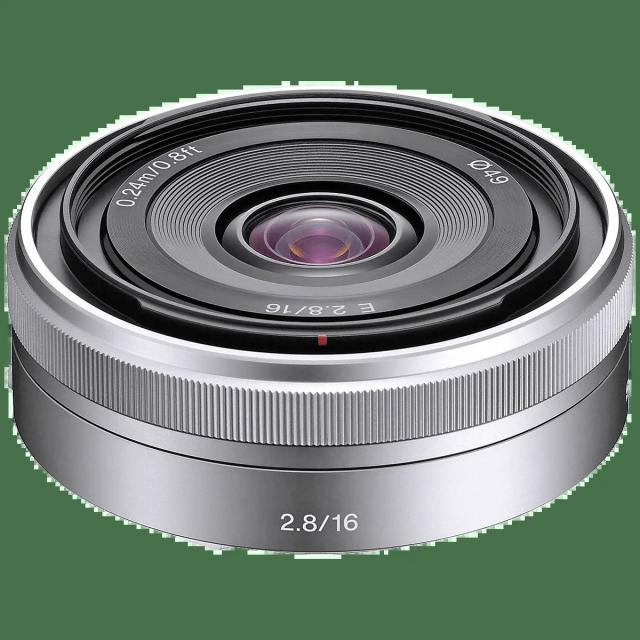hidden camera: (95, 120, 566, 345)
